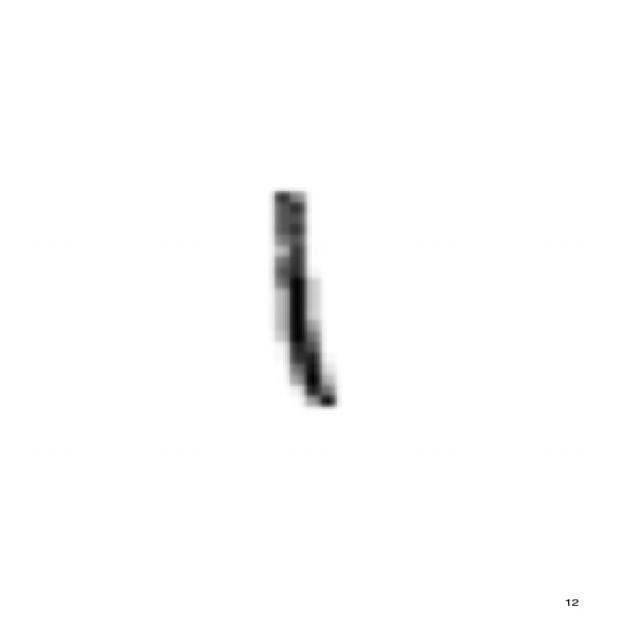1 -one-: (247, 177, 359, 423)
